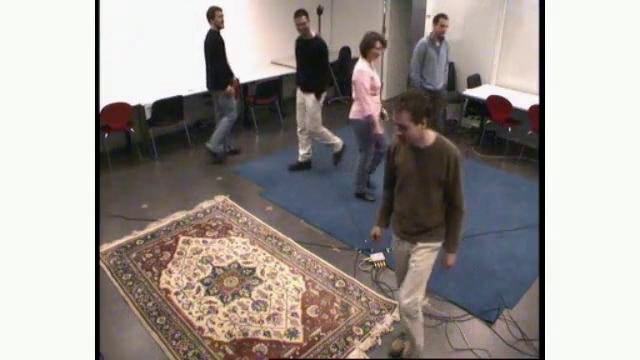normal: (349, 6, 470, 360), (286, 8, 345, 176), (199, 5, 246, 161)
